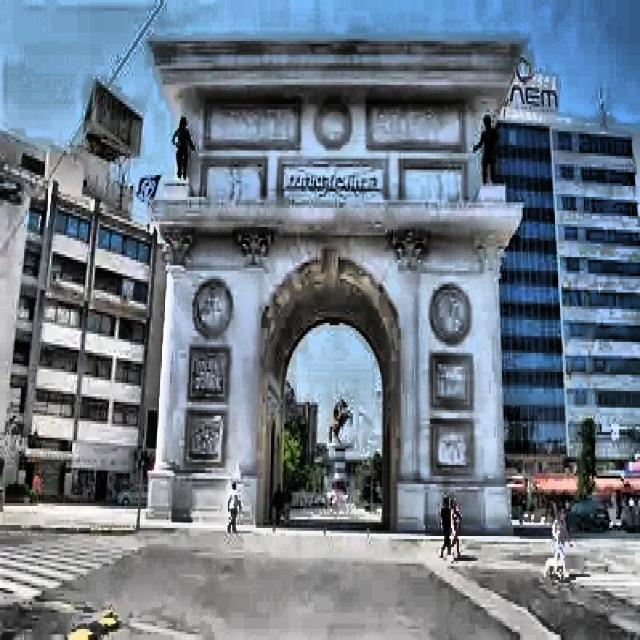triumphal arch: (138, 30, 528, 531)
